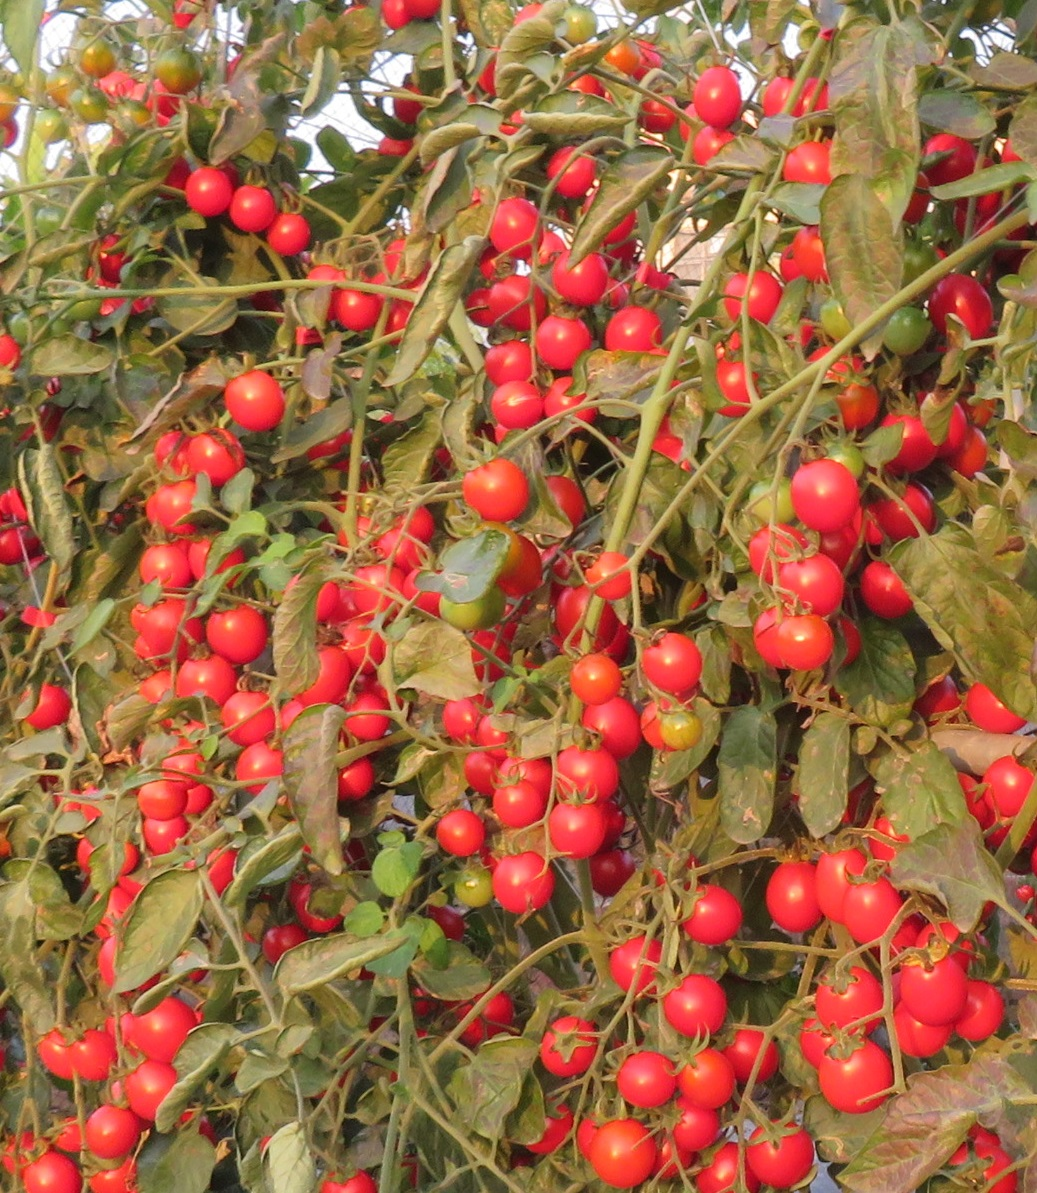green: (439, 868, 493, 914), (881, 307, 926, 355), (656, 707, 707, 749), (555, 6, 602, 48), (159, 51, 198, 84), (67, 91, 102, 122), (84, 47, 115, 70), (117, 110, 146, 130)
orange: (589, 1126, 662, 1189), (560, 655, 631, 702)
red: (742, 1111, 824, 1185), (821, 1030, 893, 1110), (782, 460, 855, 536), (896, 953, 975, 1023), (34, 1023, 124, 1080), (642, 627, 713, 695), (205, 591, 272, 663), (460, 457, 531, 522), (492, 854, 561, 921), (130, 994, 201, 1057), (814, 972, 886, 1032), (782, 554, 847, 617), (661, 976, 725, 1038), (556, 746, 625, 803), (612, 1052, 680, 1110), (842, 885, 904, 948), (549, 259, 617, 314), (80, 1100, 145, 1157), (680, 1042, 738, 1105), (771, 621, 840, 673), (538, 1021, 597, 1080), (967, 752, 1028, 810), (223, 373, 284, 430), (553, 799, 610, 860), (767, 863, 817, 932), (694, 64, 744, 133), (855, 558, 908, 623), (682, 895, 752, 942), (154, 476, 207, 539), (603, 311, 665, 363), (118, 1063, 182, 1112), (486, 194, 539, 253), (615, 935, 666, 994), (430, 812, 493, 857), (180, 652, 239, 699), (21, 1144, 81, 1191), (139, 538, 188, 594), (493, 778, 550, 827), (194, 425, 240, 484), (734, 1033, 781, 1086), (487, 375, 542, 422), (182, 168, 234, 214), (135, 781, 197, 820), (266, 215, 310, 264), (782, 142, 833, 185), (230, 184, 273, 231), (486, 341, 538, 378)
